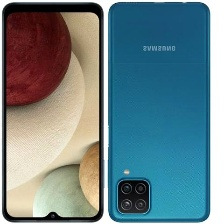phone: (104, 1, 214, 223), (0, 0, 104, 224)
